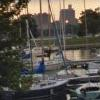Boat: (26, 47, 94, 100)
